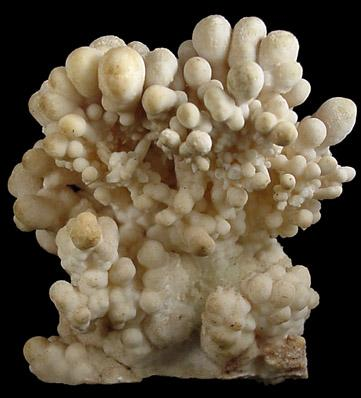calcite: (9, 15, 357, 386)
